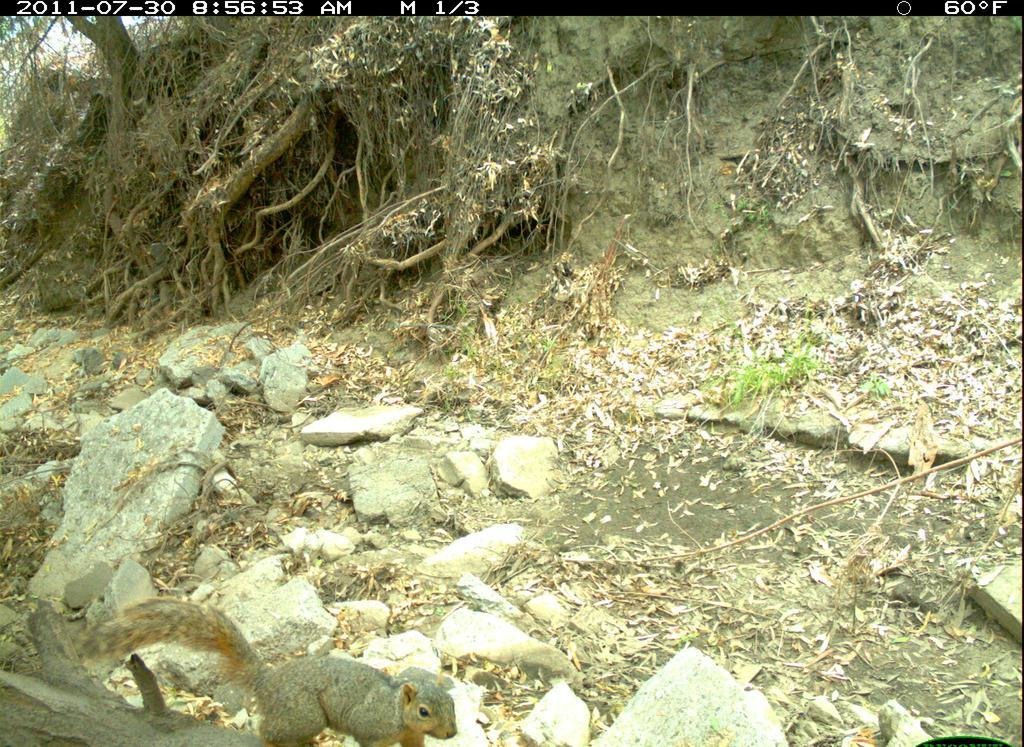squirrel: (72, 597, 461, 747)
